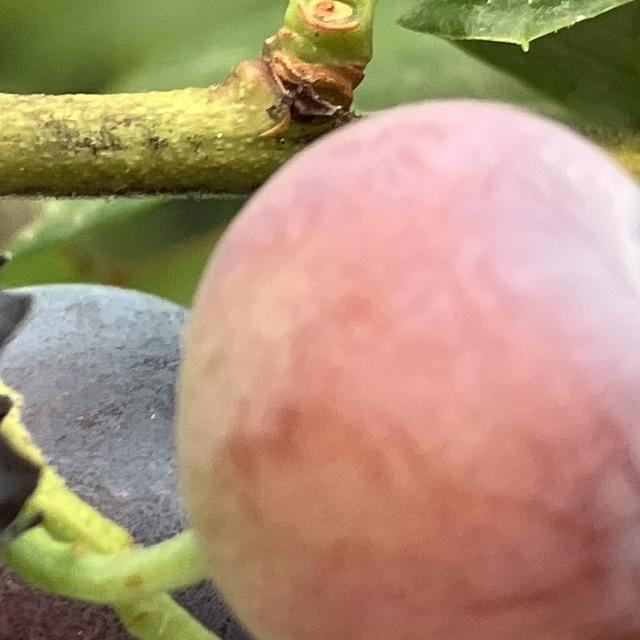Blueberries: (170, 94, 640, 640)
